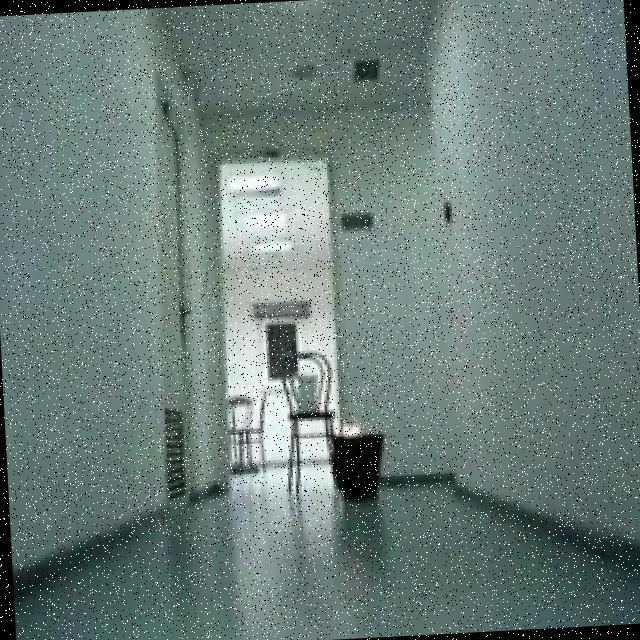Fire: (343, 422, 370, 440)
